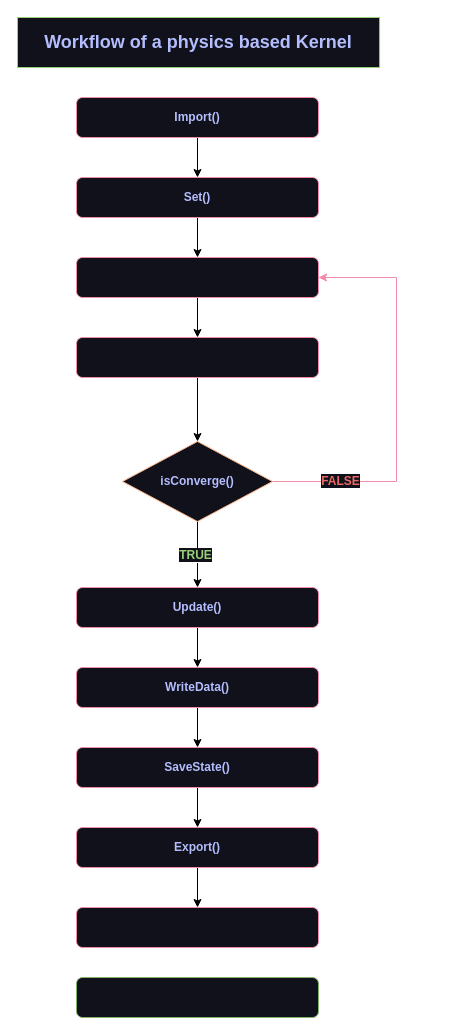
Some shapes in this 454 by 1035 pixel diagram are drawn without their labels. The box of each missing label's shape, as (x1, y1, x2, y2) in pixels:
Assemble(): (76, 256, 318, 298)
Finalize(): (76, 906, 318, 948)
LoadState(): (76, 976, 318, 1018)
Solve(): (76, 336, 318, 378)
